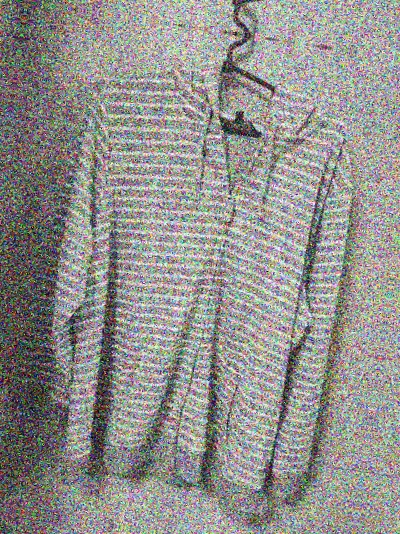Hoodie: (10, 32, 385, 517), (83, 0, 400, 34), (393, 90, 400, 534)
